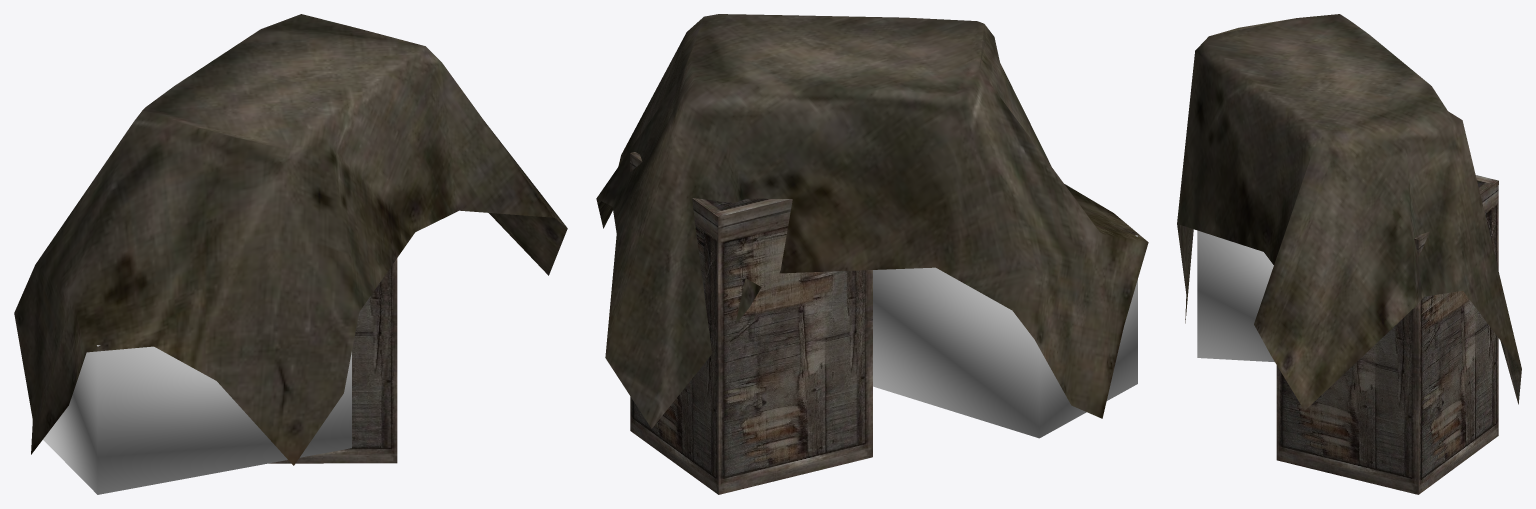
Rendered from garage_object-1.FBX.
The picture shows the model from 3 angles, left to right: view 1: azimuth 30°, elevation 25°; view 2: azimuth 150°, elevation 25°; view 3: azimuth 270°, elevation 25°; orthographic projection. The views are drawn at different scales.
Parts seen in each view (by area): view 1: Group004; view 2: Group004; view 3: Group004.
Boxes of the visible parts, x1,y1,x2,y2 form: Group004: [14, 14, 567, 494]; Group004: [596, 14, 1148, 494]; Group004: [1177, 14, 1521, 494].
Size of the model in its own units: 243 by 175 by 156.
